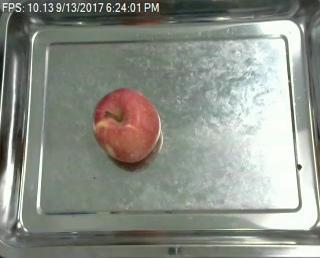apple: (92, 88, 161, 162)
